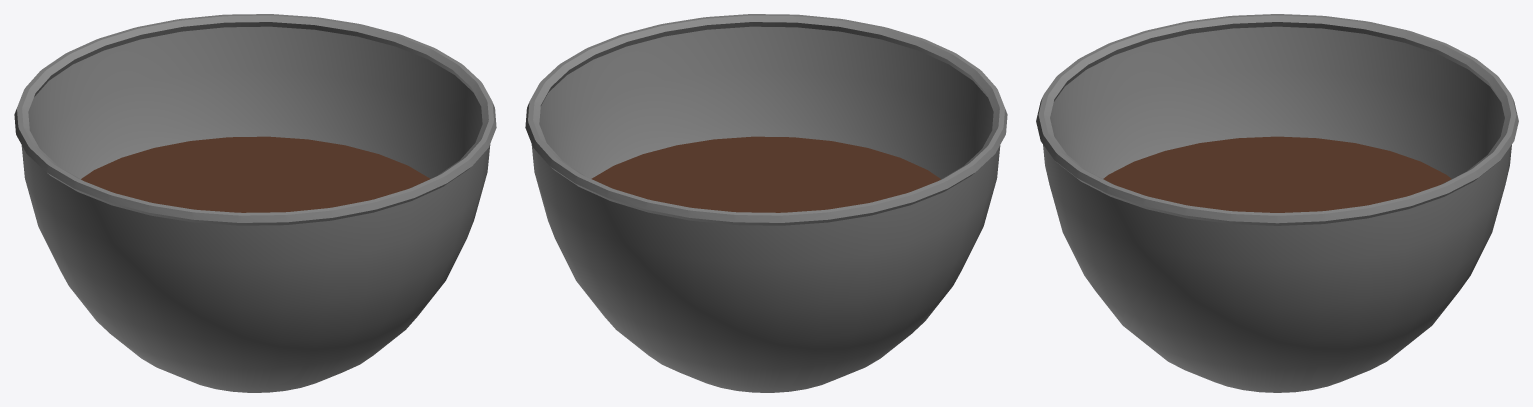
File: PetitSaladierMelangeCholate_VR_Mio.fbx
The picture shows the model from 3 angles, left to right: view 1: azimuth 30°, elevation 25°; view 2: azimuth 150°, elevation 25°; view 3: azimuth 270°, elevation 25°; orthographic projection.
Visible parts, largest first — view 1: Sphere, Cylinder; view 2: Sphere, Cylinder; view 3: Sphere, Cylinder.
Part boxes in pixels (bbox=[...]): Sphere: bbox=[14, 14, 496, 392]; Cylinder: bbox=[81, 136, 430, 212]; Sphere: bbox=[525, 14, 1007, 392]; Cylinder: bbox=[591, 136, 940, 212]; Sphere: bbox=[1036, 14, 1518, 392]; Cylinder: bbox=[1103, 136, 1451, 212].
Size of the model in its own units: 17.6 by 9.66 by 17.6.
